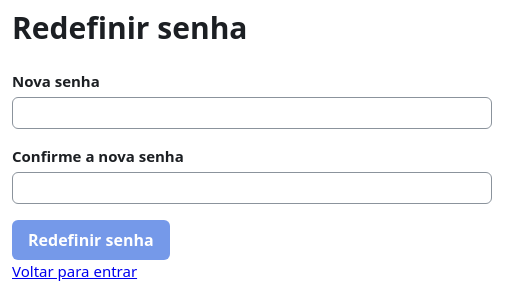
Test: confirmação da senha › mantem o envio desabilitado enquanto algum campo esta vazio
expect the button "Redefinir senha" is disabled: met, box 12,220 -> 170,260
In the password field labelled "Nova senha": {"x": 252, "y": 113} 12,97 -> 492,129, type "senha-nova-123"
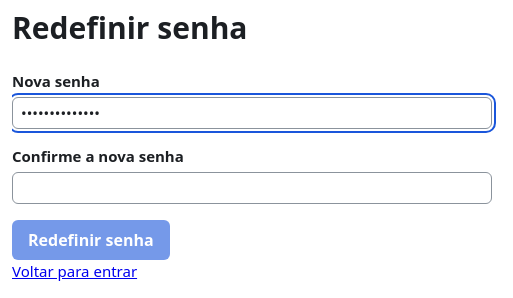
expect the button "Redefinir senha" is disabled: met, box 12,220 -> 170,260
In the password field labelled "Confirme a nova senha": {"x": 252, "y": 188} 12,172 -> 492,204, type "senha-nova-123"
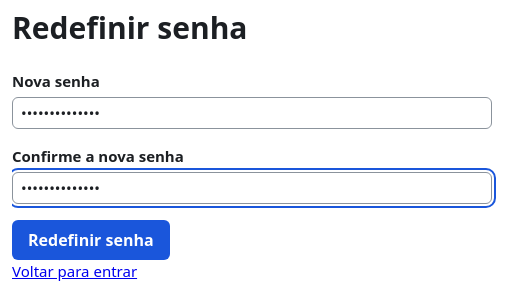
expect the button "Redefinir senha" is enabled: met, box 12,220 -> 170,260
